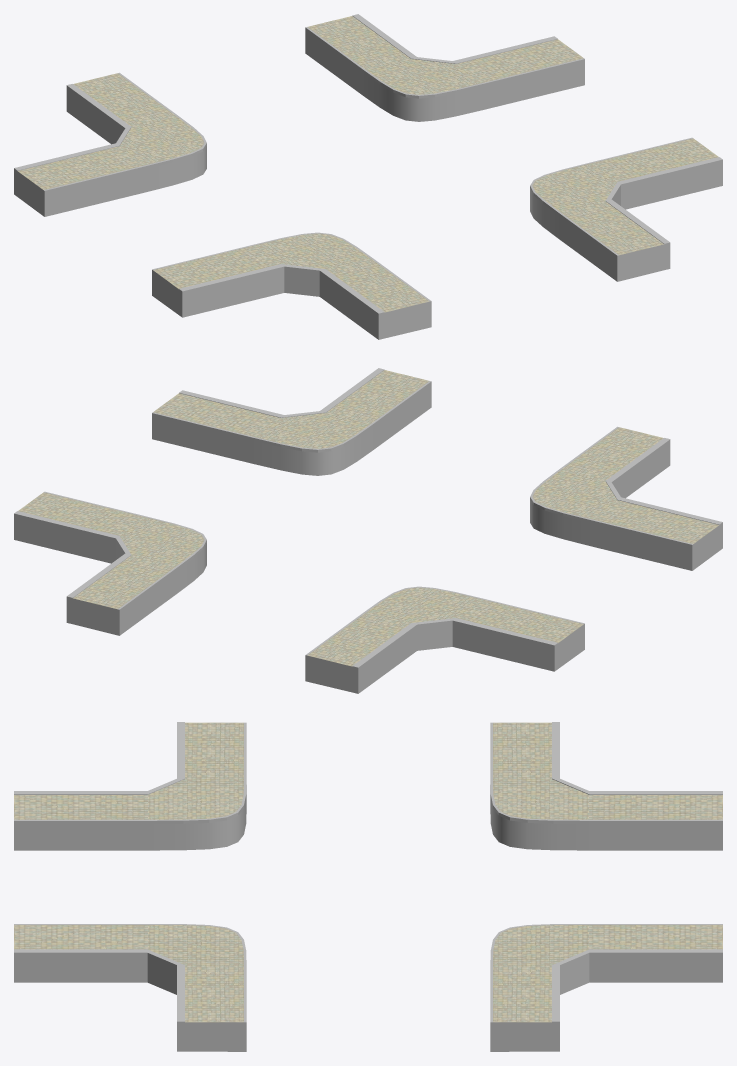
The model's file is road_w01_cr02.fbx.
3 views of the same model, one above another, from view 1: azimuth 30°, elevation 25°; view 2: azimuth 150°, elevation 25°; view 3: azimuth 270°, elevation 25° (orthographic). The views are drawn at different scales.
Parts seen in each view (by area): view 1: road_w01_cr02; view 2: road_w01_cr02; view 3: road_w01_cr02.
Boxes of the visible parts, box(x1,y1,x2,y2) form: road_w01_cr02: box(14, 14, 722, 339); road_w01_cr02: box(14, 368, 722, 693); road_w01_cr02: box(14, 722, 722, 1051).
Size of the model in its own units: 48 by 2.26 by 48.
